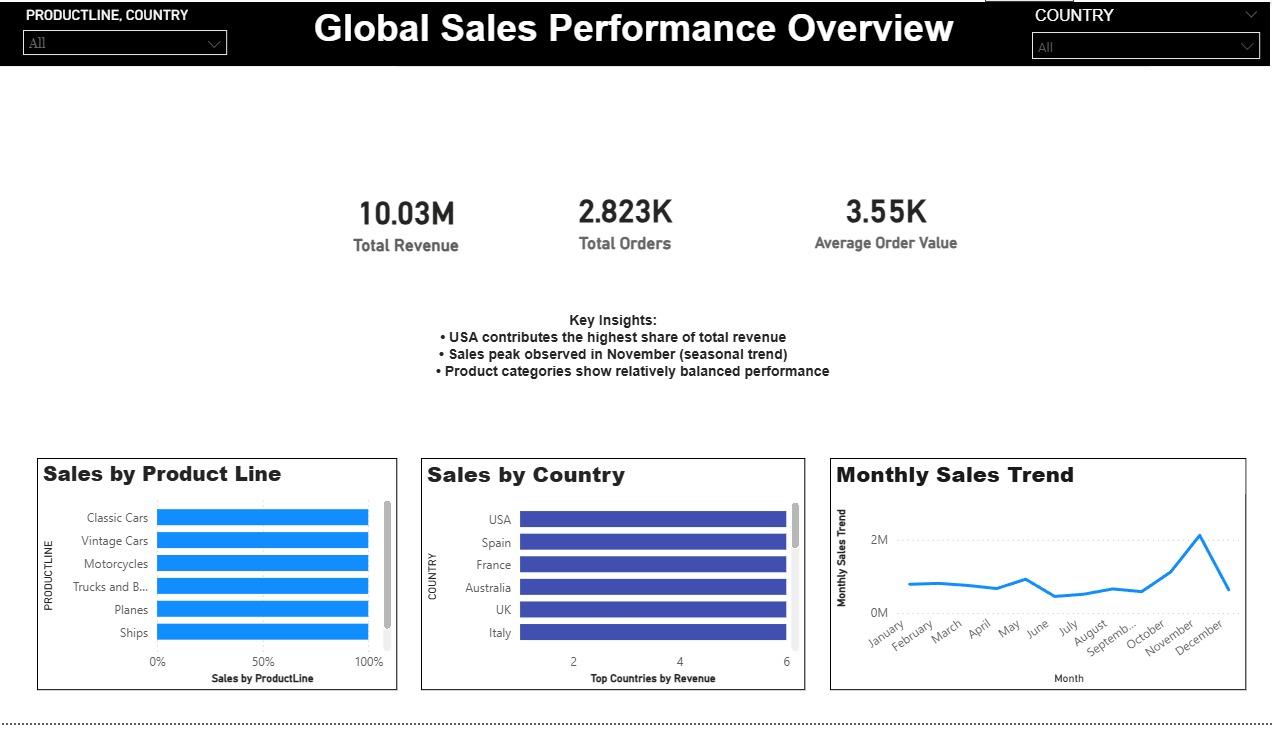

Layout of this report page (visuals, bound fields, positions):
{"tool":"powerbi","page":{"name":"Page 1","canvas":[1280,720],"ordinal":0},"visuals":[{"type":"card","title":"Total Revenue","fields":{"Values":["Sum(sales-data-cleaning - Data cleaning work.SALES)"]},"box":[309.2,161.5,200,112],"z":0},{"type":"hundredPercentStackedBarChart","title":"Sales by Product Line ","fields":{"Category":["sales-data-cleaning - Data cleaning work.PRODUCTLINE"],"Y":["Sum(sales-data-cleaning - Data cleaning work.SALES)"]},"box":[40,456,360,232],"z":1000},{"type":"lineChart","title":"Monthly Sales Trend ","fields":{"Category":["sales-data-cleaning - Data cleaning work.ORDERDATE.Variation.Date Hierarchy.Month"],"Y":["Sum(sales-data-cleaning - Data cleaning work.SALES)"]},"box":[832,456,416,232],"z":2000},{"type":"barChart","title":"Sales by Country ","fields":{"Category":["sales-data-cleaning - Data cleaning work.COUNTRY"],"Y":["Sum(sales-data-cleaning - Data cleaning work.SALES)"]},"box":[424,456,384,232],"z":3000},{"type":"card","fields":{"Values":["CountNonNull(sales-data-cleaning - Data cleaning work.ORDERNUMBER)"]},"box":[528,160,200,112],"z":4000},{"type":"card","fields":{"Values":["Avg(sales-data-cleaning - Data cleaning work.SALES)"]},"box":[792,160,192,112],"z":5000},{"type":"textbox","box":[455.2,9.7,456.2,88.5],"z":6000},{"type":"shape","box":[400,0,752,64],"z":8000},{"type":"textbox","box":[0,0,1272,64],"z":9000},{"type":"slicer","fields":{"Values":["sales-data-cleaning - Data cleaning work.PRODUCTLINE","sales-data-cleaning - Data cleaning work.COUNTRY"]},"box":[16,0,224,64],"z":10000},{"type":"slicer","fields":{"Values":["sales-data-cleaning - Data cleaning work.COUNTRY"]},"box":[1024,0,248,64],"z":11000},{"type":"textbox","box":[312,304,608,112],"z":11001}]}

Visuals, with their boxes in screenshot pixels (x1, y1, x2, y2), scaled from the page's 1280x720 canvas onto the 1272x733 screenshot:
"Total Revenue" card: box(307, 164, 506, 278)
"Sales by Product Line " hundredPercentStackedBarChart: box(40, 464, 398, 700)
"Monthly Sales Trend " lineChart: box(827, 464, 1240, 700)
"Sales by Country " barChart: box(421, 464, 803, 700)
card - CountNonNull(sales-data-cleaning - Data cleaning work.ORDERNUMBER): box(525, 163, 723, 277)
card - Avg(sales-data-cleaning - Data cleaning work.SALES): box(787, 163, 978, 277)
textbox: box(452, 10, 906, 100)
shape: box(398, 0, 1145, 65)
textbox: box(0, 0, 1264, 65)
slicer - sales-data-cleaning - Data cleaning work.PRODUCTLINE x sales-data-cleaning - Data cleaning work.COUNTRY: box(16, 0, 238, 65)
slicer - sales-data-cleaning - Data cleaning work.COUNTRY: box(1018, 0, 1264, 65)
textbox: box(310, 309, 914, 424)
